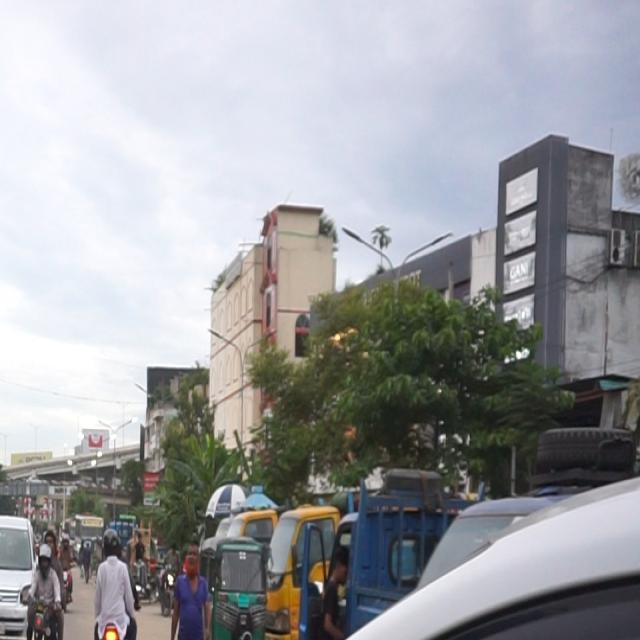motorbike: (84, 564, 148, 640), (17, 573, 68, 640)
